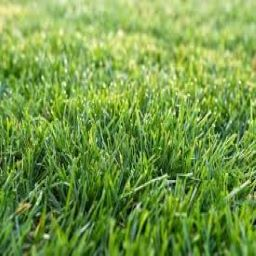grass: (1, 4, 249, 249)
